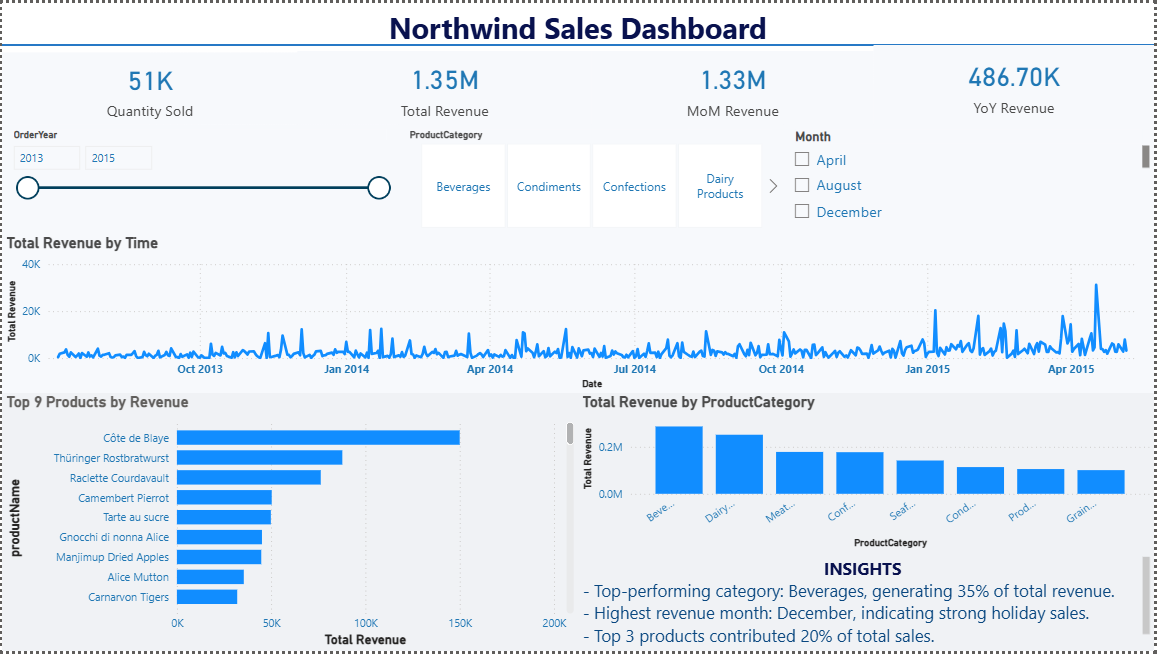

Layout of this report page (visuals, bound fields, positions):
{"tool":"powerbi","page":{"name":"Page 1","canvas":[1280,720],"ordinal":0},"visuals":[{"type":"textbox","box":[0,0,1279.5,54.5],"z":0},{"type":"shape","box":[0,0,1280,93.3],"z":1000},{"type":"card","fields":{"Values":["AllMeasures.Quantity Sold"]},"box":[0,55,328.3,80],"z":2000},{"type":"card","fields":{"Values":["AllMeasures.Total Revenue"]},"box":[328.3,53.3,326.7,81.7],"z":3000},{"type":"card","fields":{"Values":["AllMeasures.MoM Revenue"]},"box":[655,53.3,313.3,81.7],"z":4000},{"type":"card","fields":{"Values":["AllMeasures.YoY Revenue"]},"box":[968.3,46.7,311.7,88.3],"z":5000},{"type":"slicer","fields":{"Values":["YearSlicer.OrderYear"]},"box":[0,135,440,121.7],"z":6000},{"type":"slicer","fields":{"Values":["CategorySlicer.ProductCategory"]},"box":[440,135,428.3,121.7],"z":7000},{"type":"slicer","fields":{"Values":["Calendar.Month"]},"box":[868.3,135,411.7,121.7],"z":8000},{"type":"lineChart","title":"Total Revenue by Time","fields":{"Category":["Calendar.Date"],"Y":["AllMeasures.Total Revenue"]},"box":[0,256.7,1280,176.7],"z":9000},{"type":"clusteredColumnChart","fields":{"Category":["products.ProductCategory"],"Y":["AllMeasures.Total Revenue"]},"box":[640,433.3,640,176.7],"z":10000},{"type":"clusteredBarChart","title":"Top 9 Products by Revenue","fields":{"Category":["products.productName"],"Y":["AllMeasures.Total Revenue"]},"box":[0,433.3,640,286.7],"z":11000},{"type":"textbox","box":[640,610,640,110],"z":11001}]}

Visuals, with their boxes in screenshot pixels (x1, y1, x2, y2), scaled from the page's 1280x720 canvas onto the 1157x655 screenshot:
textbox: locate(0, 0, 1156, 50)
shape: locate(0, 0, 1156, 85)
card - AllMeasures.Quantity Sold: locate(0, 50, 297, 123)
card - AllMeasures.Total Revenue: locate(297, 48, 592, 123)
card - AllMeasures.MoM Revenue: locate(592, 48, 875, 123)
card - AllMeasures.YoY Revenue: locate(875, 42, 1156, 123)
slicer - YearSlicer.OrderYear: locate(0, 123, 398, 234)
slicer - CategorySlicer.ProductCategory: locate(398, 123, 785, 234)
slicer - Calendar.Month: locate(785, 123, 1156, 234)
"Total Revenue by Time" lineChart: locate(0, 234, 1156, 394)
clusteredColumnChart - products.ProductCategory x AllMeasures.Total Revenue: locate(578, 394, 1156, 555)
"Top 9 Products by Revenue" clusteredBarChart: locate(0, 394, 578, 654)
textbox: locate(578, 555, 1156, 654)
